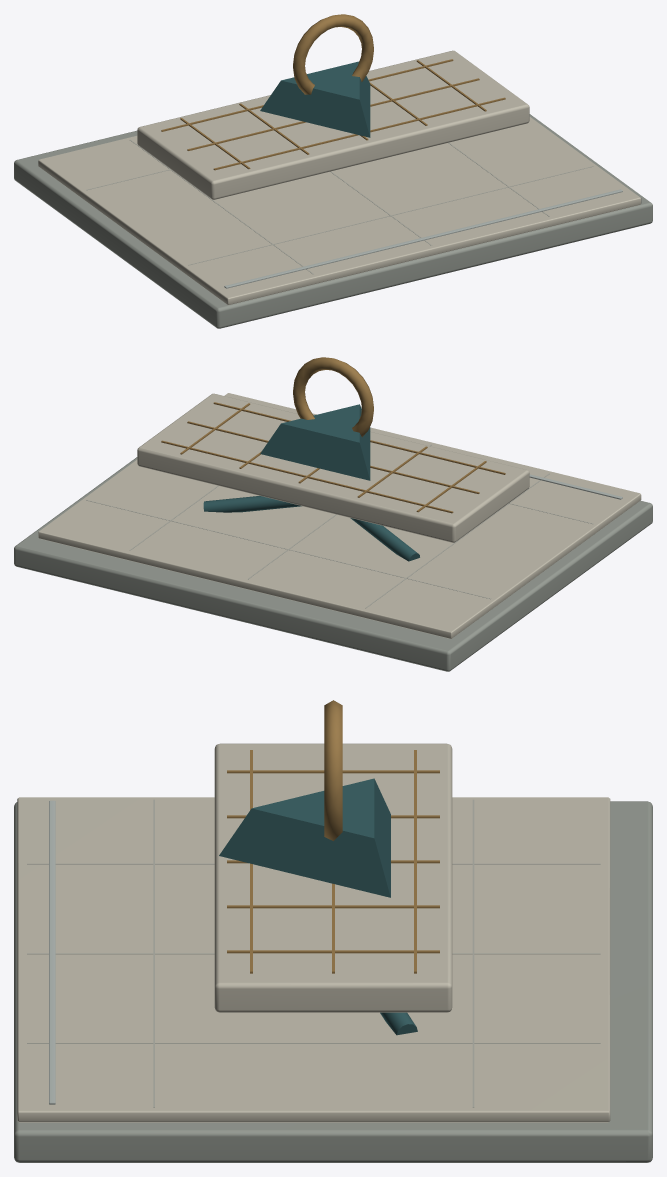
Rendered from idea-80553c2c.glb.
3 views of the same model, one above another, from view 1: azimuth 30°, elevation 25°; view 2: azimuth 150°, elevation 25°; view 3: azimuth 270°, elevation 25° (orthographic). The views are drawn at different scales.
Visible parts, largest first — view 1: Magnetic Ironing; view 2: Magnetic Ironing; view 3: Magnetic Ironing.
Boxes of the visible parts, box(x1,y1,x2,y2) form: Magnetic Ironing: box(14, 14, 652, 328); Magnetic Ironing: box(14, 357, 652, 671); Magnetic Ironing: box(14, 700, 652, 1162).
Size of the model in its own units: 4.8 by 1.97 by 3.9.
